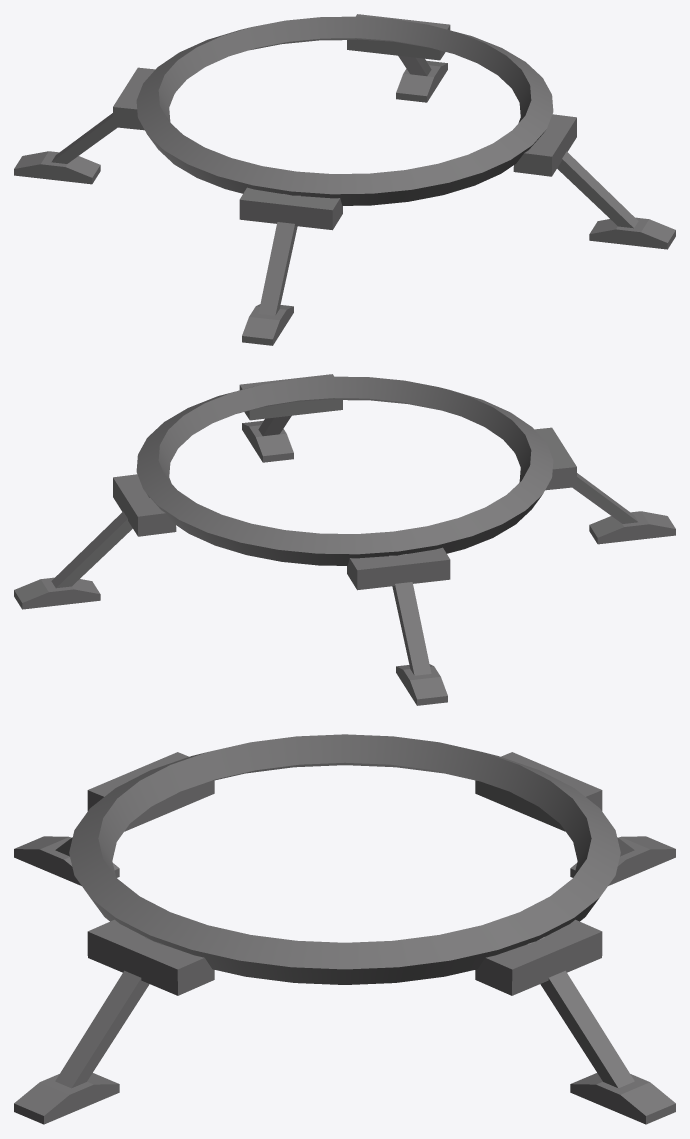
File: House_Single_Support_Sphere.obj
The picture shows the model from 3 angles, top to bottom: view 1: azimuth 30°, elevation 25°; view 2: azimuth 150°, elevation 25°; view 3: azimuth 270°, elevation 25°; orthographic projection. The views are drawn at different scales.
Visible parts, largest first — view 1: House_Single_Support_Sphere.011; view 2: House_Single_Support_Sphere.011; view 3: House_Single_Support_Sphere.011.
Part boxes in pixels (x1,y1,x2,y2): House_Single_Support_Sphere.011: (14,14,675,345); House_Single_Support_Sphere.011: (14,374,675,705); House_Single_Support_Sphere.011: (14,734,675,1124).
Bounding box in the file's own units: 3.58 × 0.8721 × 3.58.
